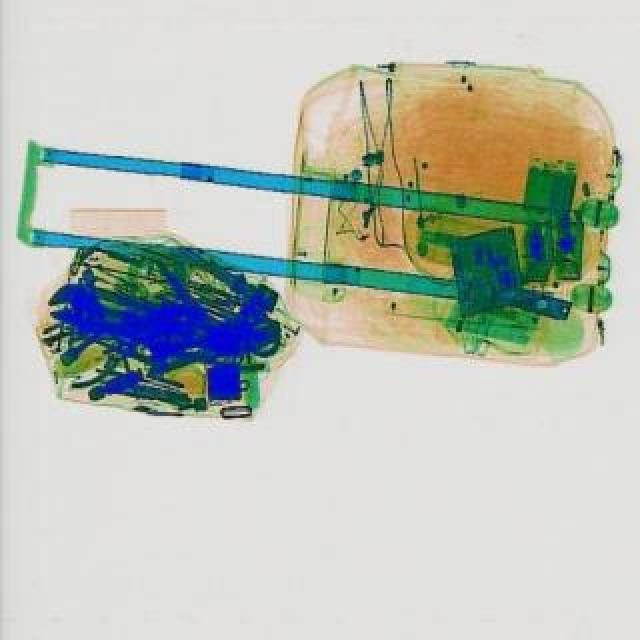scissors: (42, 278, 284, 362)
